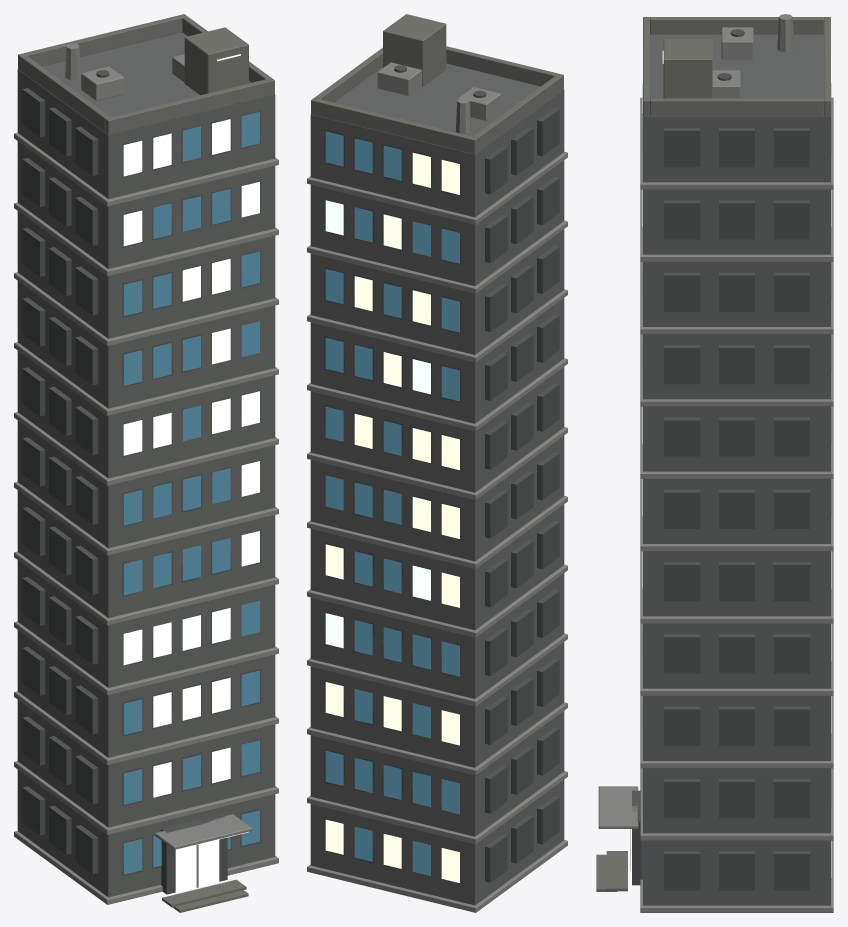
The model's file is office_block_d.glb.
3 renders of one model, left to right at view 1: azimuth 30°, elevation 25°; view 2: azimuth 150°, elevation 25°; view 3: azimuth 270°, elevation 25°, orthographic. The views are drawn at different scales.
Parts seen in each view (by area): view 1: office_block_d_Graphite@utility, office_block_d_DarkAlloy@utility, office_block_d_Steel@utility, office_block_d_BlackGlass, office_block_d_Concrete@utility, office_block_d_WarmGlass, office_block_d_CoolGlass; view 2: office_block_d_Graphite@utility, office_block_d_DarkAlloy@utility, office_block_d_Steel@utility, office_block_d_BlackGlass, office_block_d_WarmGlass, office_block_d_Concrete@utility, office_block_d_CoolGlass; view 3: office_block_d_Graphite@utility, office_block_d_DarkAlloy@utility, office_block_d_Steel@utility, office_block_d_Concrete@utility, office_block_d_BlackGlass.
Part boxes in pixels (box(x1,y1,x2,y2)): office_block_d_Graphite@utility: box(17, 32, 275, 897); office_block_d_DarkAlloy@utility: box(22, 70, 261, 894); office_block_d_Steel@utility: box(14, 43, 278, 904); office_block_d_BlackGlass: box(123, 112, 259, 874); office_block_d_Concrete@utility: box(18, 14, 274, 912); office_block_d_WarmGlass: box(123, 133, 259, 892); office_block_d_CoolGlass: box(123, 119, 259, 783); office_block_d_Graphite@utility: box(310, 63, 564, 905); office_block_d_DarkAlloy@utility: box(324, 65, 559, 882); office_block_d_Steel@utility: box(307, 62, 567, 912); office_block_d_BlackGlass: box(325, 131, 459, 875); office_block_d_WarmGlass: box(325, 152, 459, 882); office_block_d_Concrete@utility: box(311, 14, 563, 154); office_block_d_CoolGlass: box(325, 200, 430, 648); office_block_d_Graphite@utility: box(643, 34, 830, 905); office_block_d_DarkAlloy@utility: box(632, 29, 809, 890); office_block_d_Steel@utility: box(598, 14, 833, 912); office_block_d_Concrete@utility: box(596, 17, 830, 891); office_block_d_BlackGlass: box(642, 83, 831, 877).
Size of the model in its own units: 9.06 by 39.93 by 10.12.
